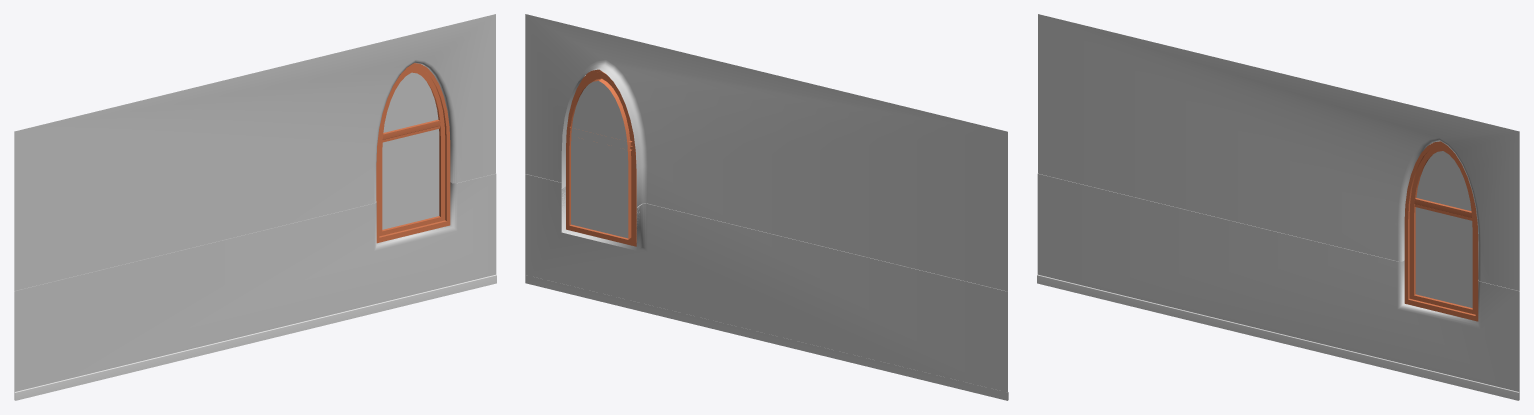
Rendered from sm_small_window_wall.fbx.
3 renders of one model, left to right at view 1: azimuth 30°, elevation 25°; view 2: azimuth 150°, elevation 25°; view 3: azimuth 330°, elevation 25°, orthographic.
Parts seen in each view (by area): view 1: sm_wall.002, sm_tiled.001, sm_glass.002, sm_skirting.002, sm_windowframe.003, sm_windowframe.005, sm_windowframe.004; view 2: sm_wall.002, sm_glass.002, sm_windowframe.003, sm_tiled.001, sm_windowframe.005; view 3: sm_wall.002, sm_tiled.001, sm_glass.002, sm_skirting.002, sm_windowframe.003, sm_windowframe.005, sm_windowframe.004.
Boxes of the visible parts, left/top/right/bottom form: sm_wall.002: left=14, top=14, right=495, bottom=399; sm_tiled.001: left=14, top=173, right=496, bottom=399; sm_glass.002: left=382, top=72, right=439, bottom=229; sm_skirting.002: left=15, top=274, right=496, bottom=400; sm_windowframe.003: left=379, top=67, right=445, bottom=236; sm_windowframe.005: left=376, top=63, right=450, bottom=243; sm_windowframe.004: left=382, top=119, right=440, bottom=142; sm_wall.002: left=525, top=14, right=1007, bottom=400; sm_glass.002: left=571, top=81, right=628, bottom=238; sm_windowframe.003: left=567, top=71, right=636, bottom=244; sm_tiled.001: left=526, top=174, right=1005, bottom=291; sm_windowframe.005: left=566, top=69, right=636, bottom=246; sm_wall.002: left=1038, top=14, right=1519, bottom=399; sm_tiled.001: left=1037, top=173, right=1519, bottom=399; sm_glass.002: left=1415, top=151, right=1472, bottom=307; sm_skirting.002: left=1037, top=274, right=1518, bottom=400; sm_windowframe.003: left=1409, top=145, right=1475, bottom=314; sm_windowframe.005: left=1404, top=141, right=1478, bottom=321; sm_windowframe.004: left=1414, top=198, right=1472, bottom=220.
Size of the model in its own units: 600 by 320 by 17.21.
